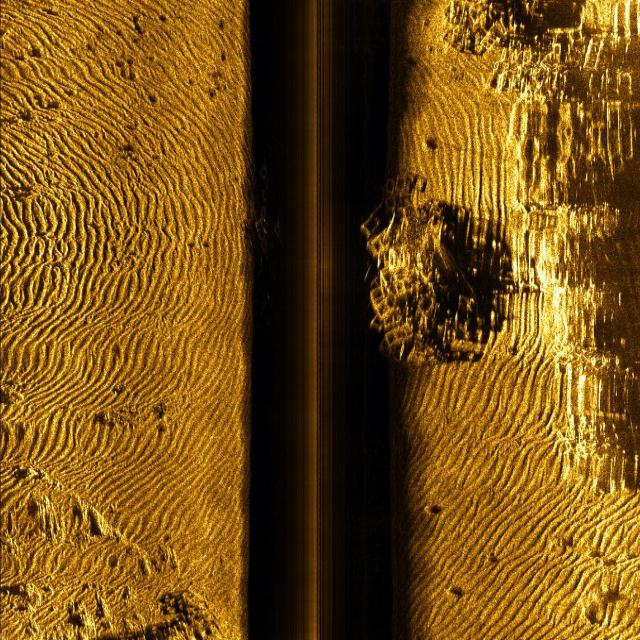artificial reef: (355, 169, 483, 389), (440, 4, 604, 101), (250, 141, 309, 301)
